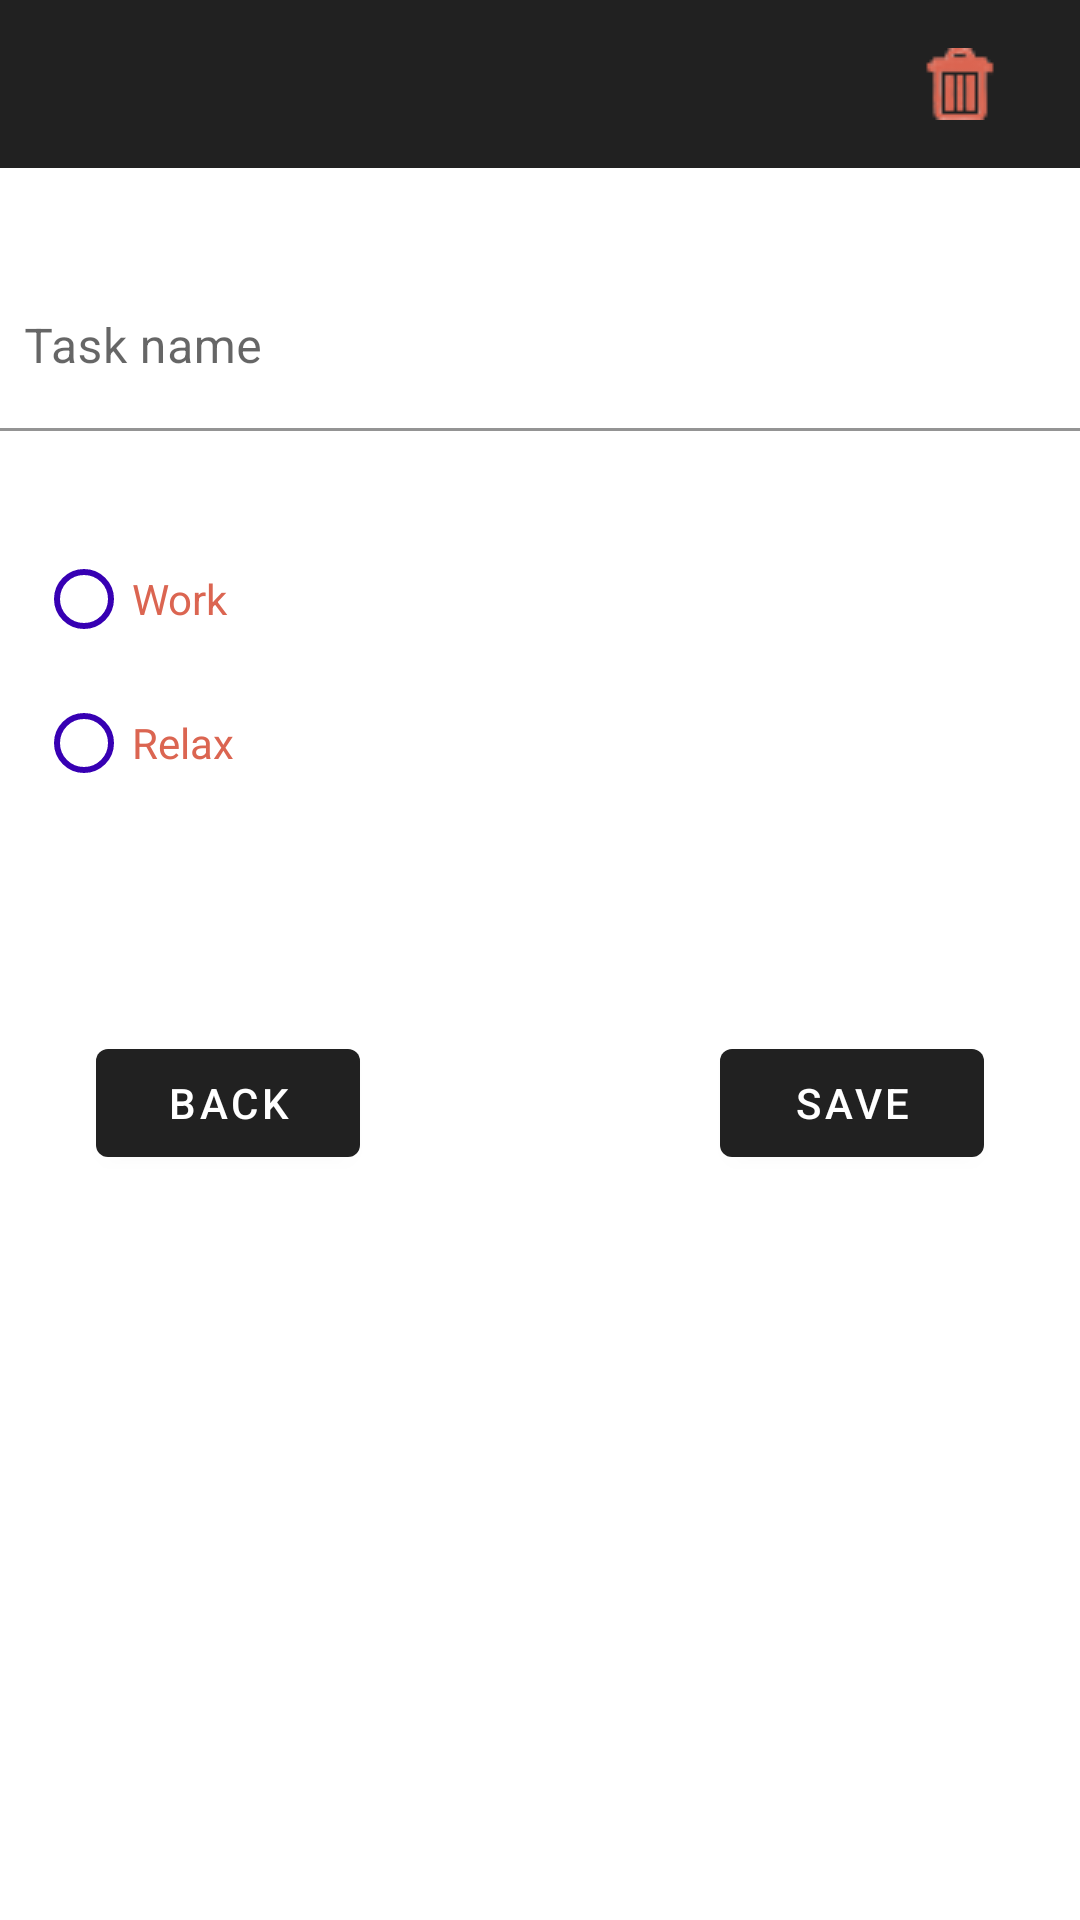

Locate icon controls on the screen. Image size 1080px x 1920px, boxes as (x1, y1, x2, y2).
delete: (926, 48, 994, 120)
